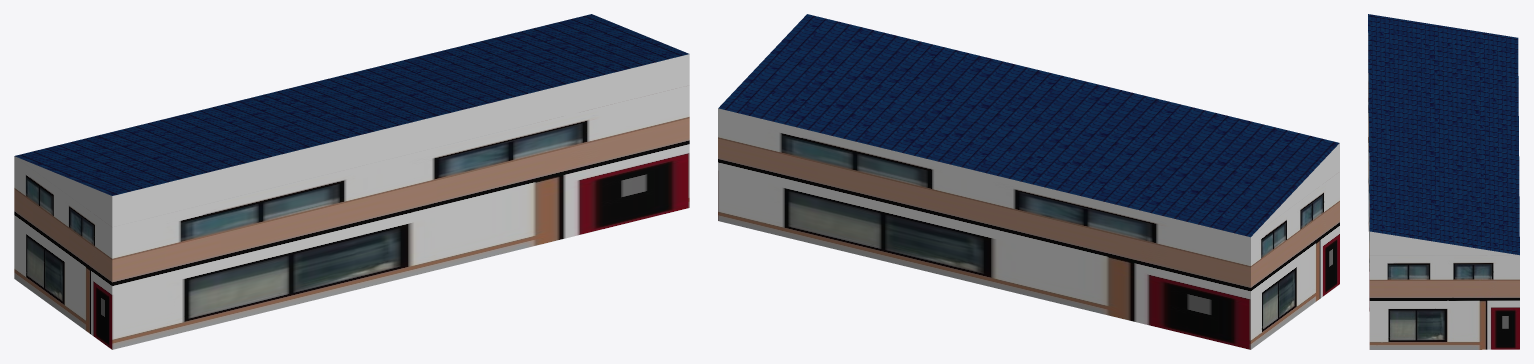
3 views of the same model, side by side, from view 1: azimuth 30°, elevation 25°; view 2: azimuth 150°, elevation 25°; view 3: azimuth 270°, elevation 25° (orthographic). The views are drawn at different scales.
Visible parts, largest first — view 1: CityEngineMaterial_5_m, CityEngineMaterial_6_m, CityEngineMaterial_3_m; view 2: CityEngineMaterial_5_m, CityEngineMaterial_6_m, CityEngineMaterial_3_m; view 3: CityEngineMaterial_6_m, CityEngineMaterial_5_m, CityEngineMaterial_3_m.
Boxes of the visible parts, x1,y1,x2,y2 form: CityEngineMaterial_5_m: (14, 85, 689, 349); CityEngineMaterial_6_m: (14, 14, 688, 195); CityEngineMaterial_3_m: (15, 54, 689, 227); CityEngineMaterial_5_m: (718, 108, 1339, 349); CityEngineMaterial_6_m: (718, 14, 1339, 237); CityEngineMaterial_3_m: (1252, 143, 1339, 235); CityEngineMaterial_6_m: (1368, 14, 1519, 255); CityEngineMaterial_5_m: (1368, 57, 1519, 349); CityEngineMaterial_3_m: (1368, 33, 1518, 255).
Size of the model in its own units: 45.1 by 11.45 by 13.31.
